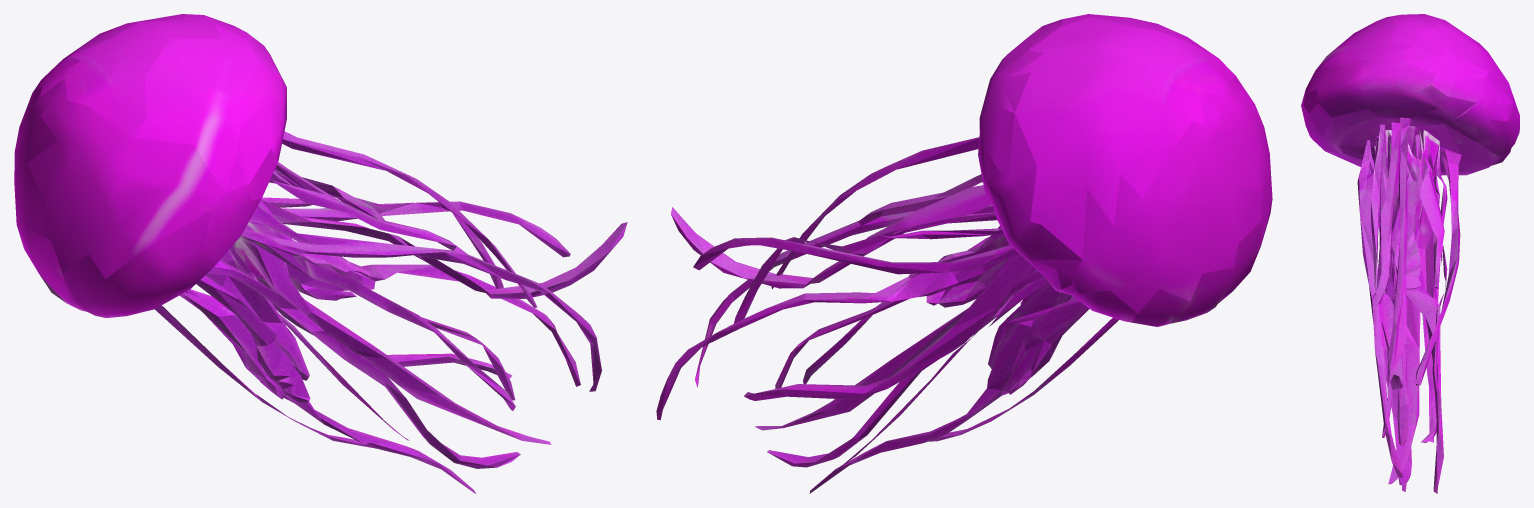
The model's file is jellyfish.glb.
3 views of the same model, side by side, from view 1: azimuth 30°, elevation 25°; view 2: azimuth 150°, elevation 25°; view 3: azimuth 270°, elevation 25° (orthographic). The views are drawn at different scales.
Bounding box in the file's own units: 1.9 × 1.67 × 0.9072.
Materials: 1 (1 with a texture image).
